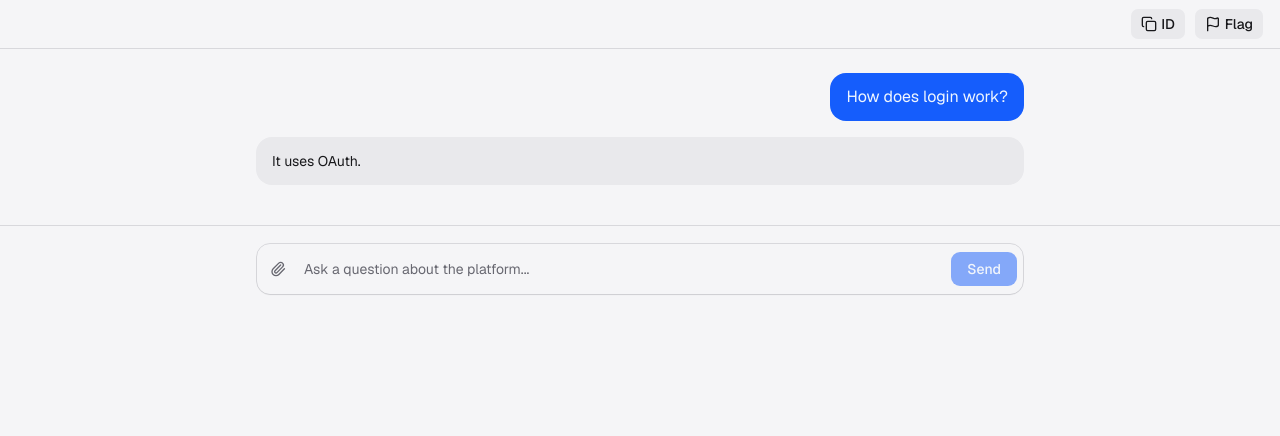
Test: ChatThread › the tool label sits under the finished bubble and clears on the next delta
Check: the text "It uses OAuth." is shown, box [272,152,361,170]
In the text box named "message": (622, 269) [294,251,950,287], type "How?"
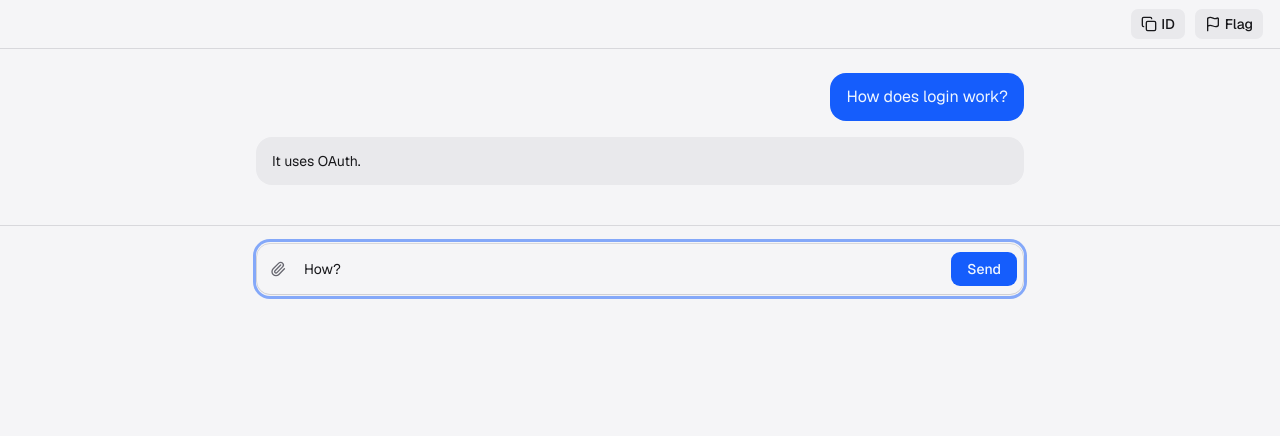
Click the button "Send": (984, 269) [950,251,1018,287]
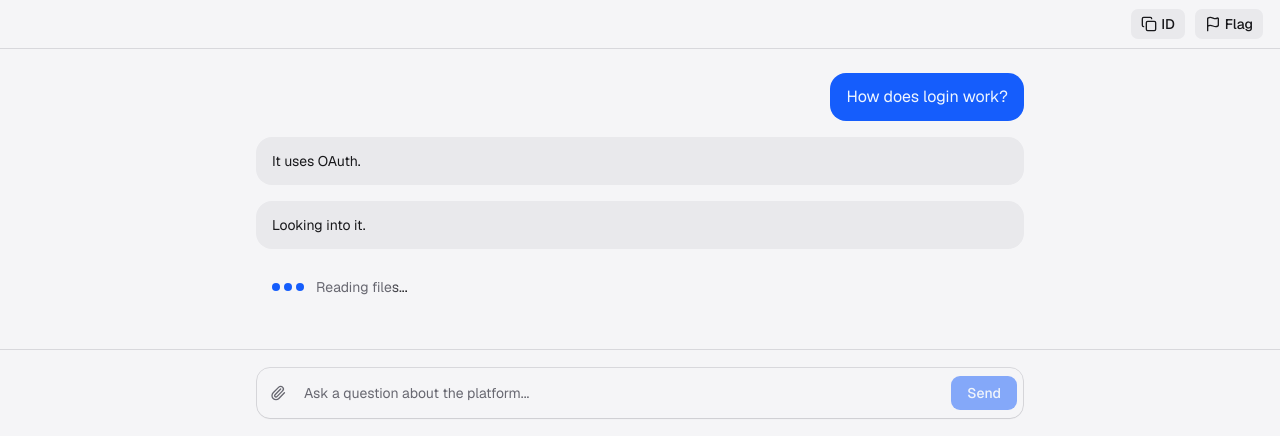
Check: the text "Reading files..." is shown, box [316,278,408,296]
Check: the text "Looking into it." is shown, box [272,216,366,234]
